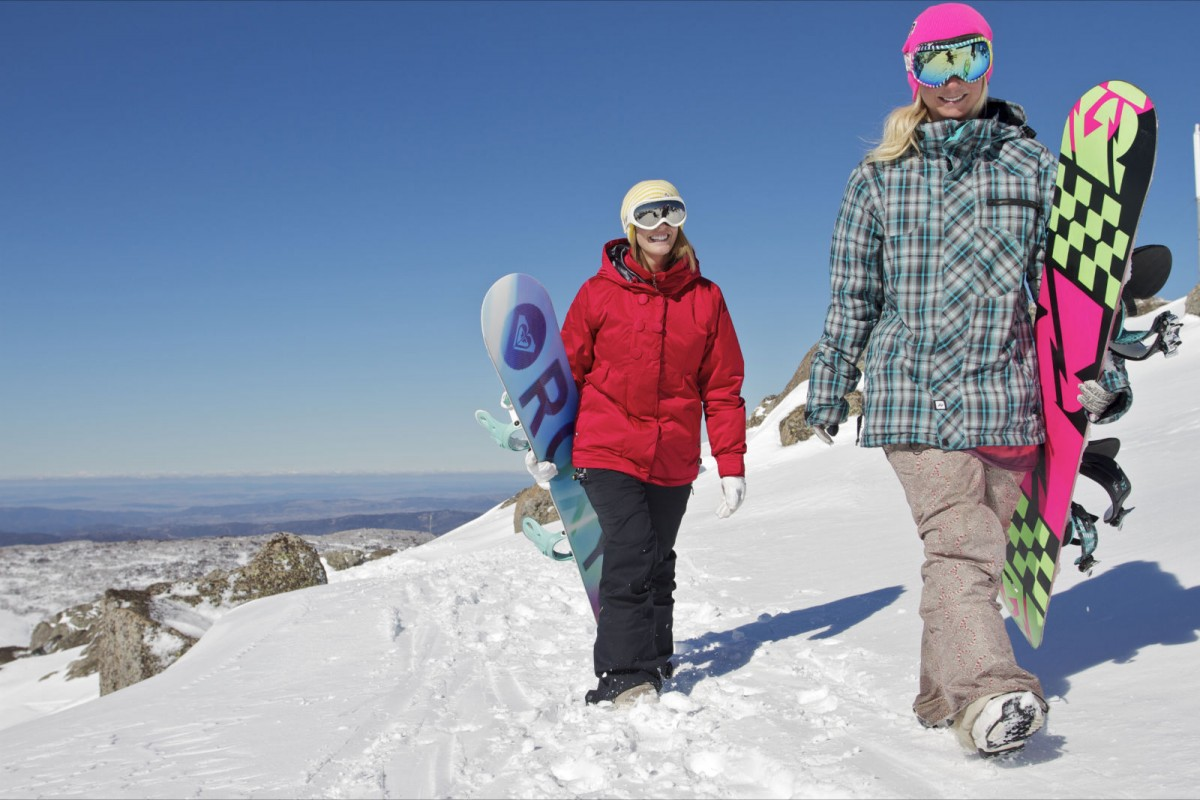snowboarder: (819, 1, 1166, 763), (460, 176, 750, 711)
